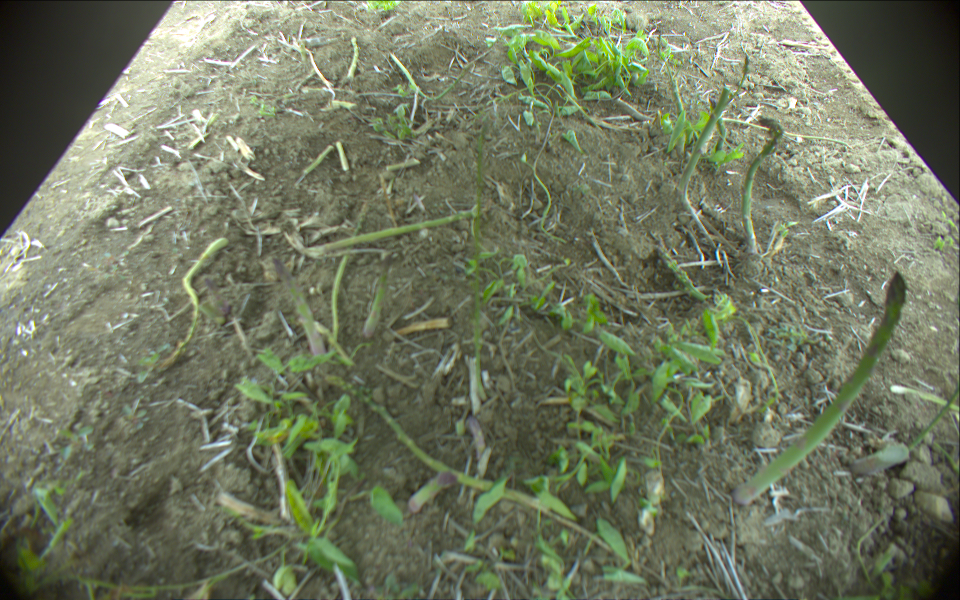aspa: (733, 274, 904, 506), (354, 388, 547, 505), (295, 203, 488, 259), (159, 235, 231, 374), (676, 87, 731, 248), (741, 116, 783, 255), (273, 256, 323, 367), (388, 51, 491, 98), (653, 242, 707, 298), (397, 472, 457, 518), (361, 252, 391, 343), (304, 144, 334, 176), (342, 35, 360, 81), (336, 140, 349, 172)
